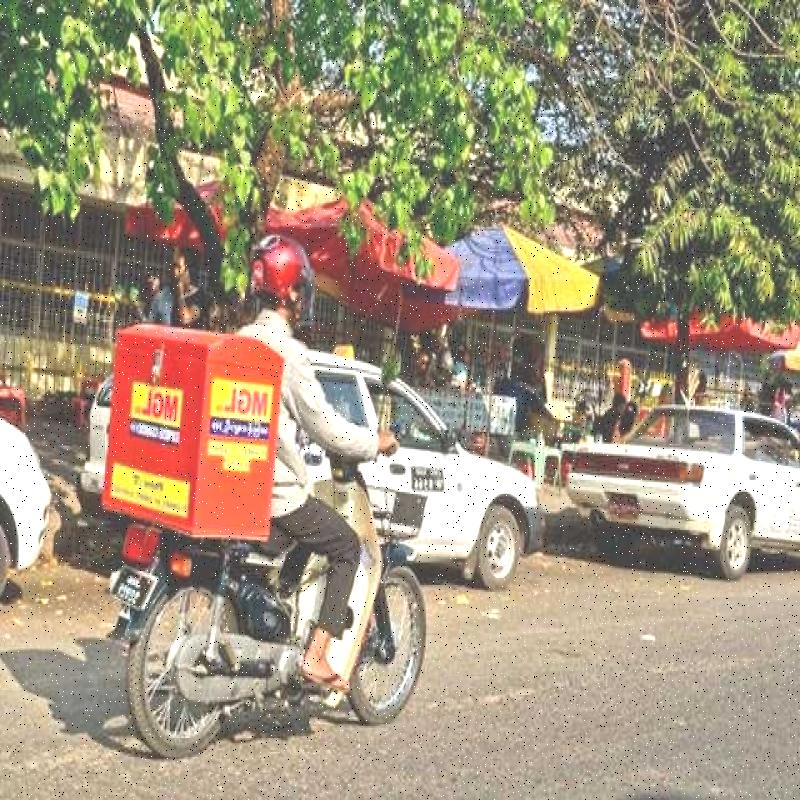bike: (36, 458, 444, 749)
